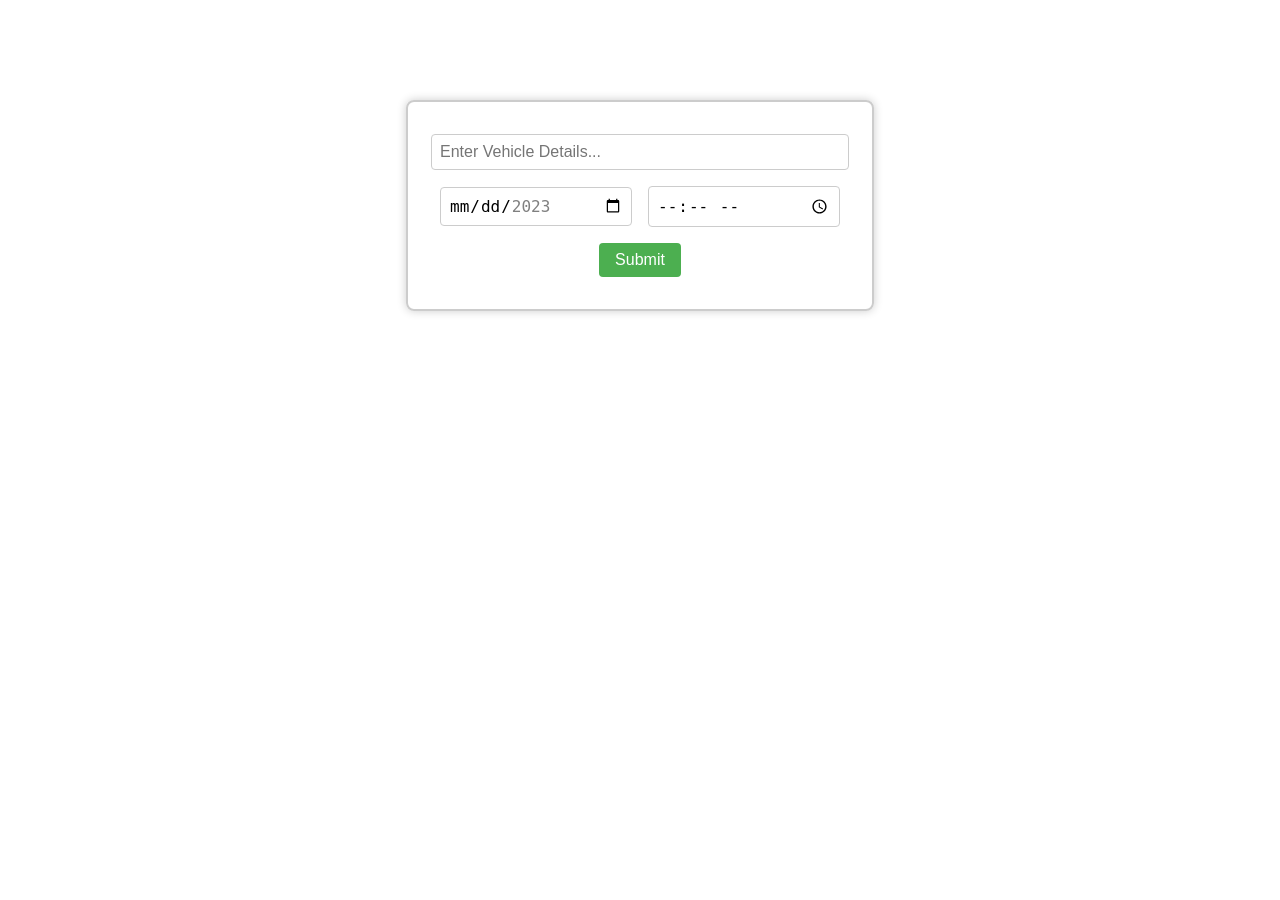
ParkingSpaceSeat component › should show error message when parking is full
Type "KL 01 AB 1234" into the field with placeholder "Enter Vehicle Details..." at {"x": 640, "y": 152}, box [431,134,849,170]
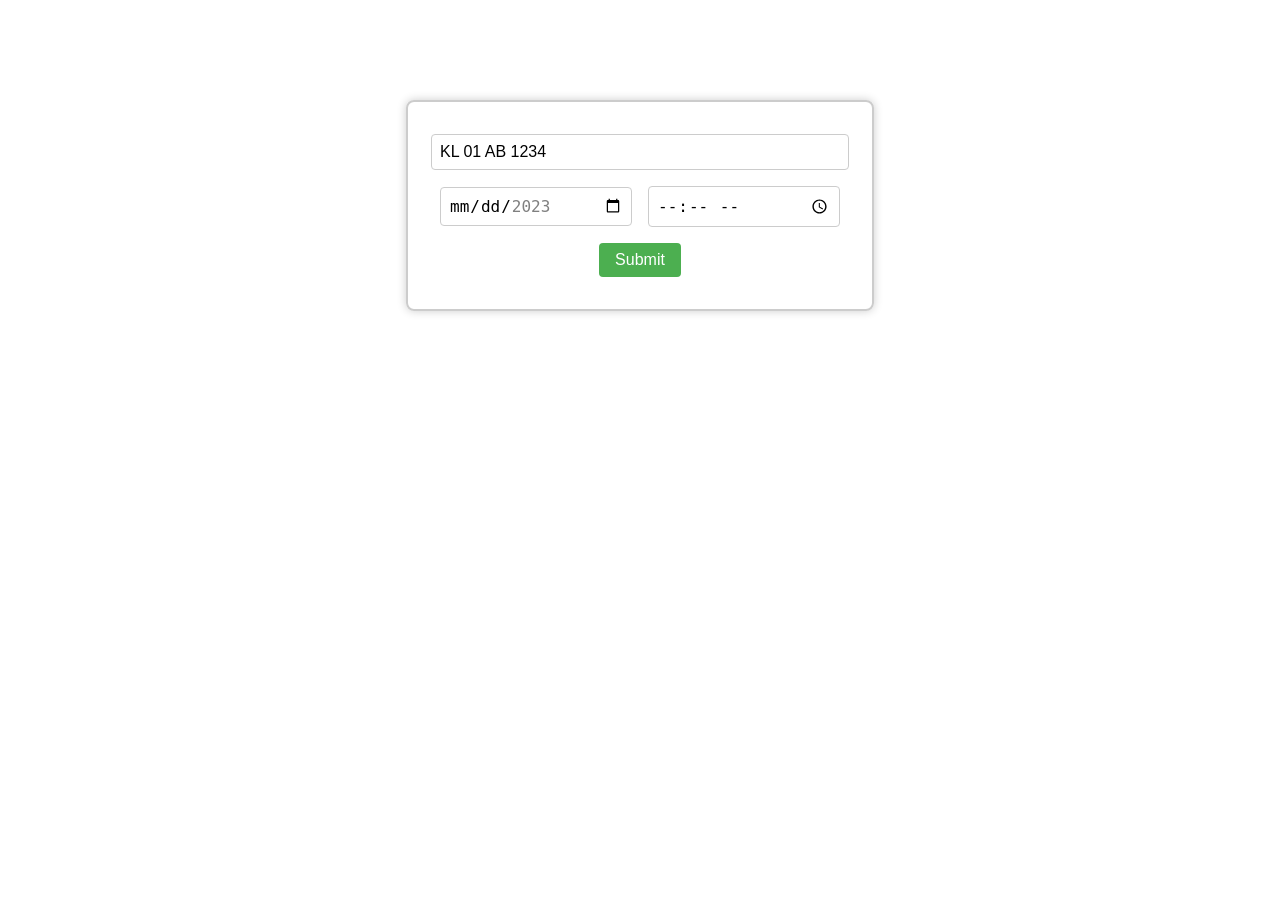
Click the button "Submit" at {"x": 640, "y": 260}, box [599,243,681,277]
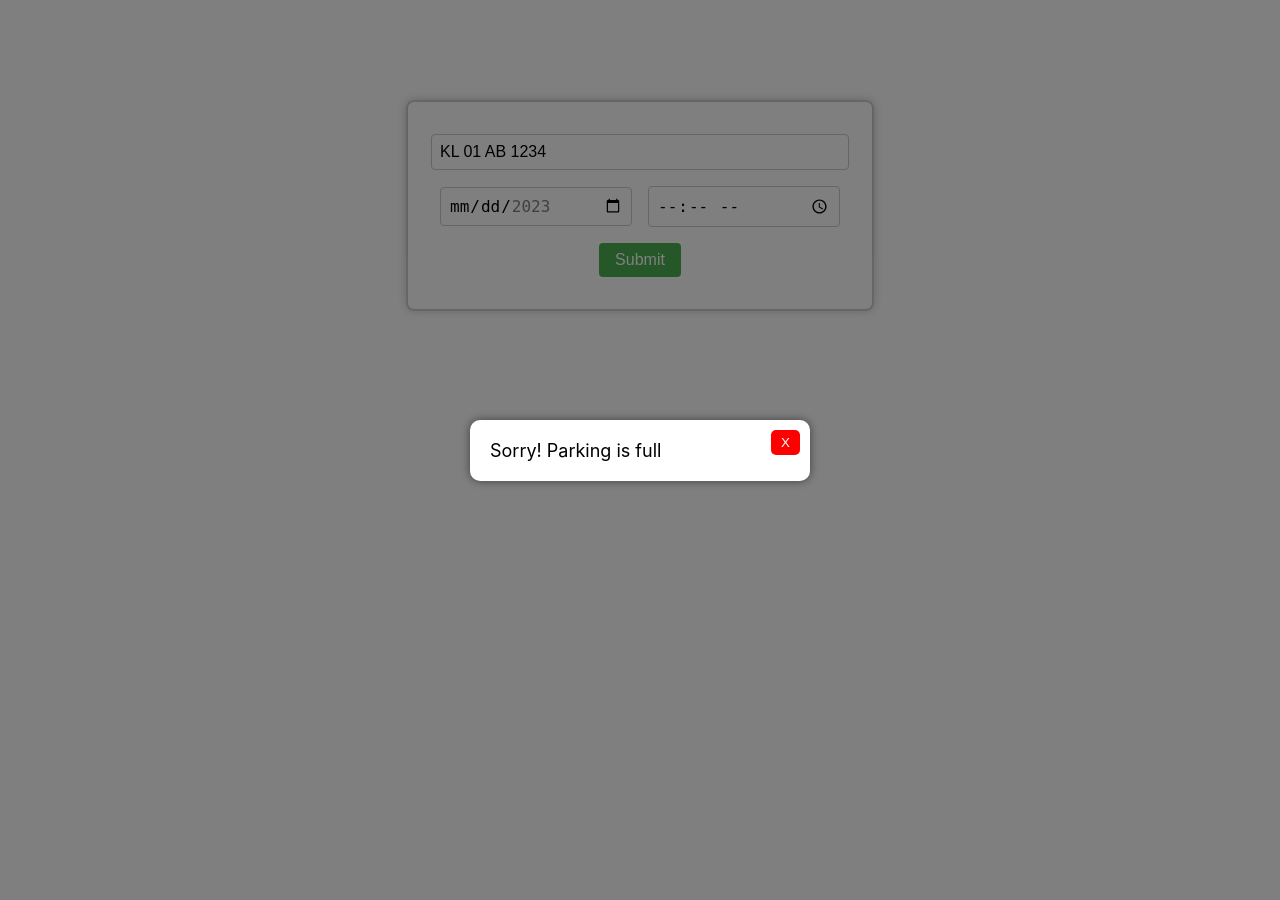
Expected: the text "Sorry! Parking is full" is shown, [490,440,661,460]
